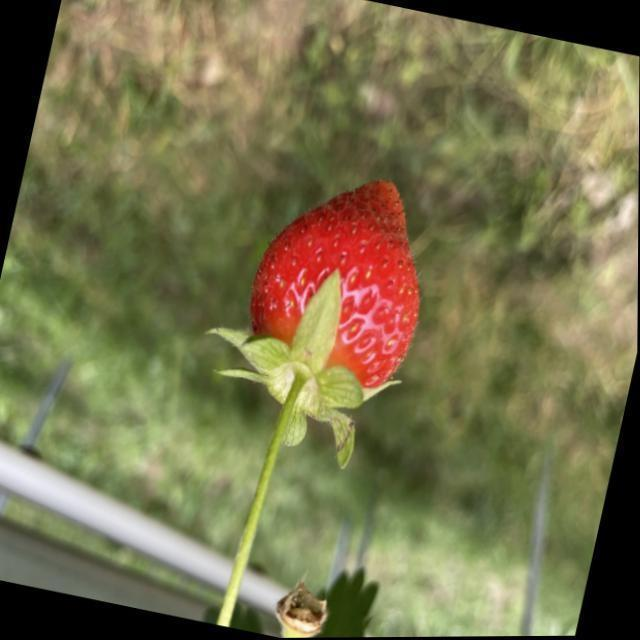stem: (209, 271, 395, 600)
strawberryR: (252, 180, 417, 384)
